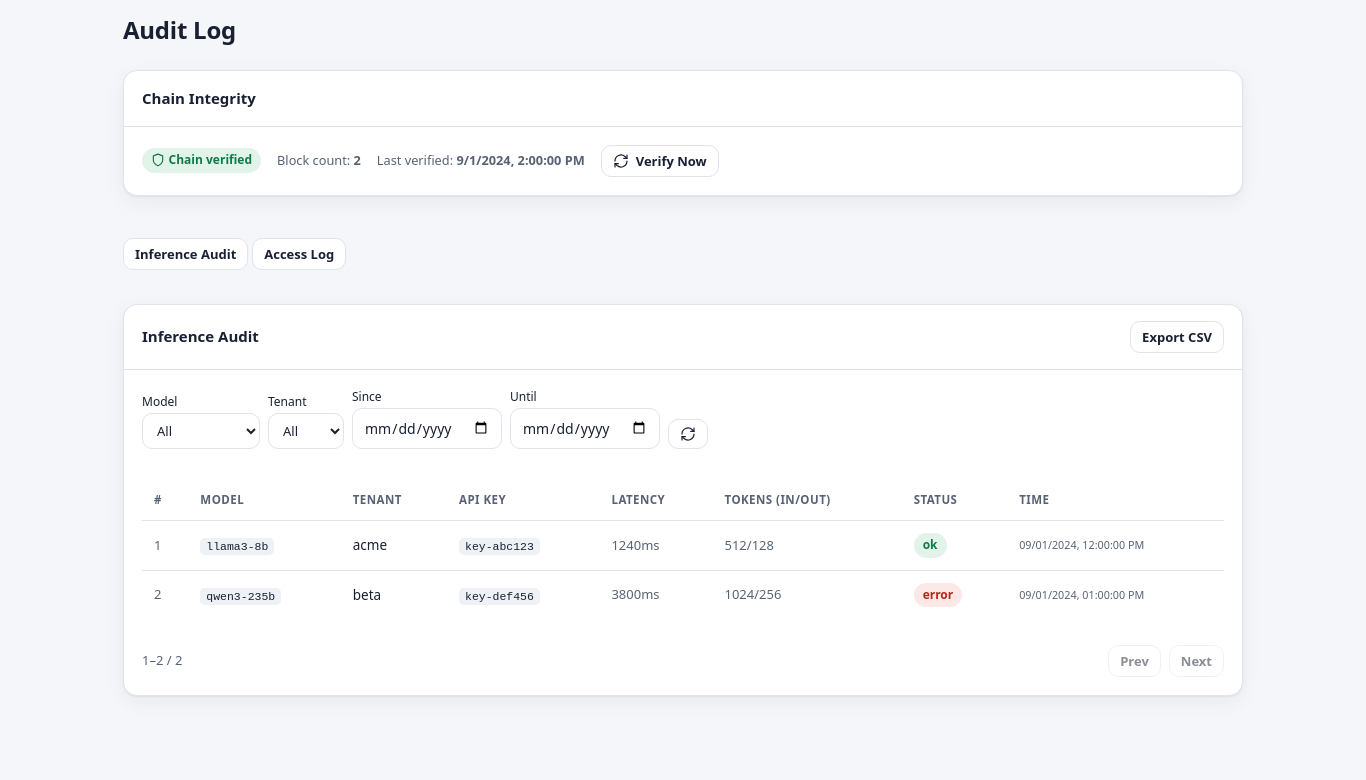
AuditPage › shows_access_log_table_on_tab_click
The image size is (1366, 780).
Click the tab "Access Log" at (299, 254), box [252, 238, 346, 270]
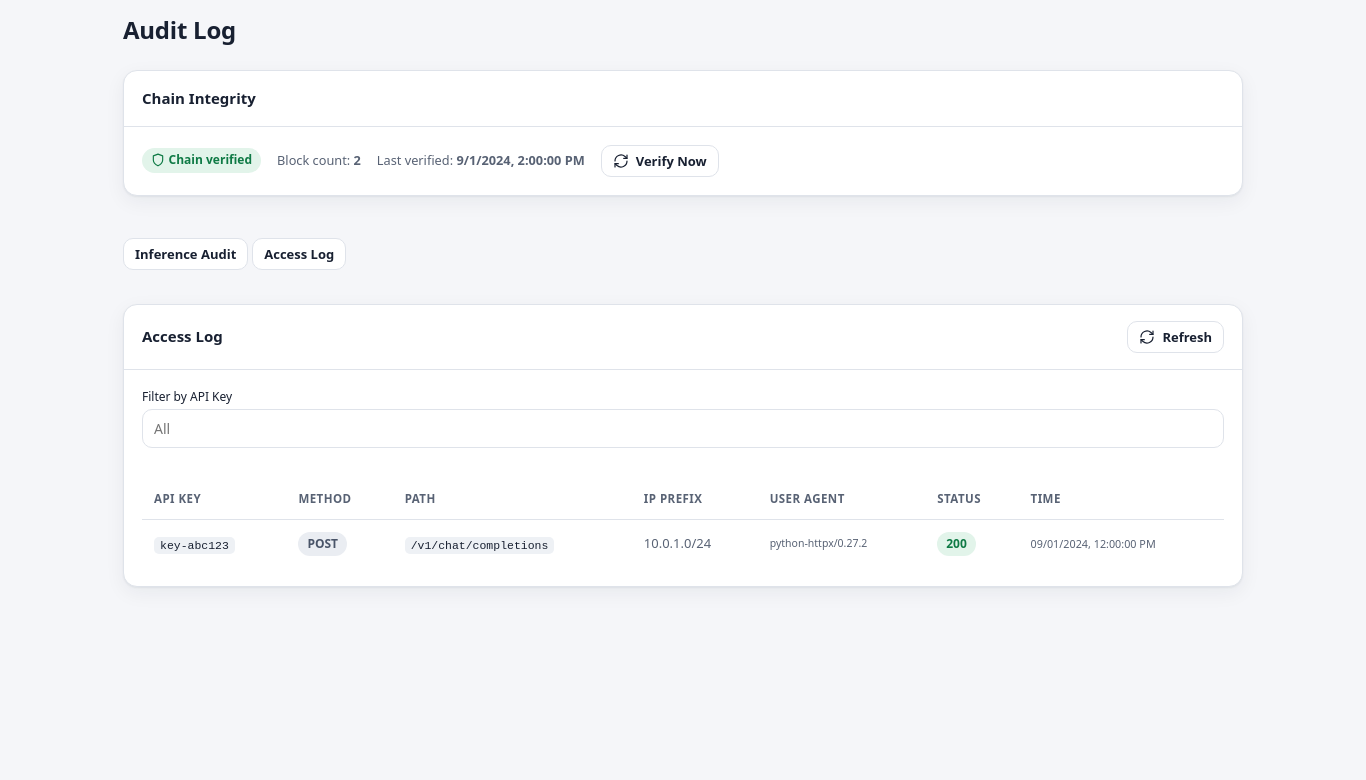
Result: the column heading "Method" is shown at [286, 478, 393, 519]
